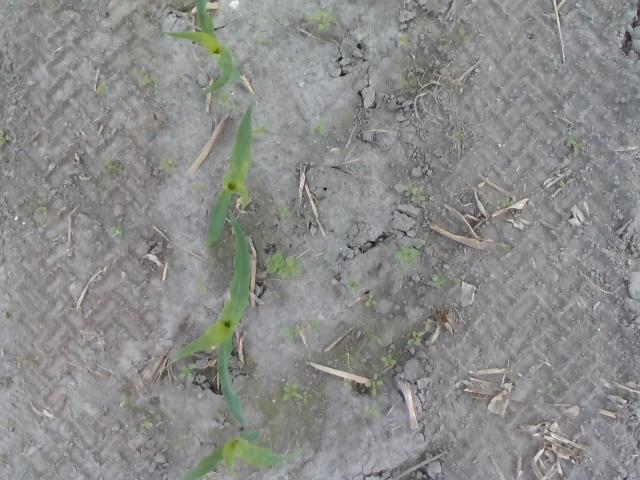Maize: (158, 207, 255, 428), (165, 0, 244, 98), (206, 104, 256, 248), (180, 429, 310, 480)
Weeds: (266, 254, 304, 278), (286, 322, 322, 344), (348, 281, 377, 307), (306, 9, 332, 34), (282, 383, 308, 404), (396, 247, 422, 267), (138, 70, 160, 90), (364, 374, 384, 394), (404, 185, 426, 203), (310, 118, 328, 136), (102, 162, 126, 175), (496, 199, 516, 213), (158, 158, 178, 172), (180, 364, 197, 380), (364, 405, 382, 420), (382, 356, 401, 370), (564, 139, 584, 152), (408, 331, 425, 346), (108, 219, 126, 232), (430, 276, 444, 289), (95, 79, 108, 93), (174, 434, 186, 448), (0, 132, 10, 148), (280, 204, 293, 216), (398, 32, 408, 46), (193, 180, 206, 189), (140, 420, 154, 428), (548, 384, 556, 398), (460, 32, 469, 42), (510, 31, 520, 40)
